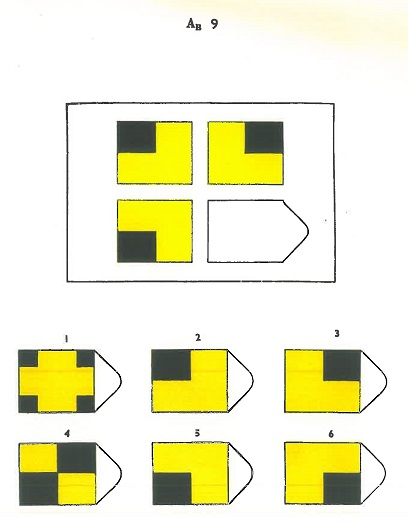Array 1: (13, 331, 124, 417)
Array 2: (146, 330, 256, 416)
Array 3: (280, 326, 390, 417)
Array 4: (14, 424, 126, 509)
Array 5: (148, 423, 259, 510)
Array 6: (280, 421, 391, 509)
Matrix 1: (112, 116, 197, 190)
Matrix 2: (204, 117, 287, 190)
Matrix 3: (111, 194, 197, 267)
Matrix Unknown: (204, 195, 314, 266)
